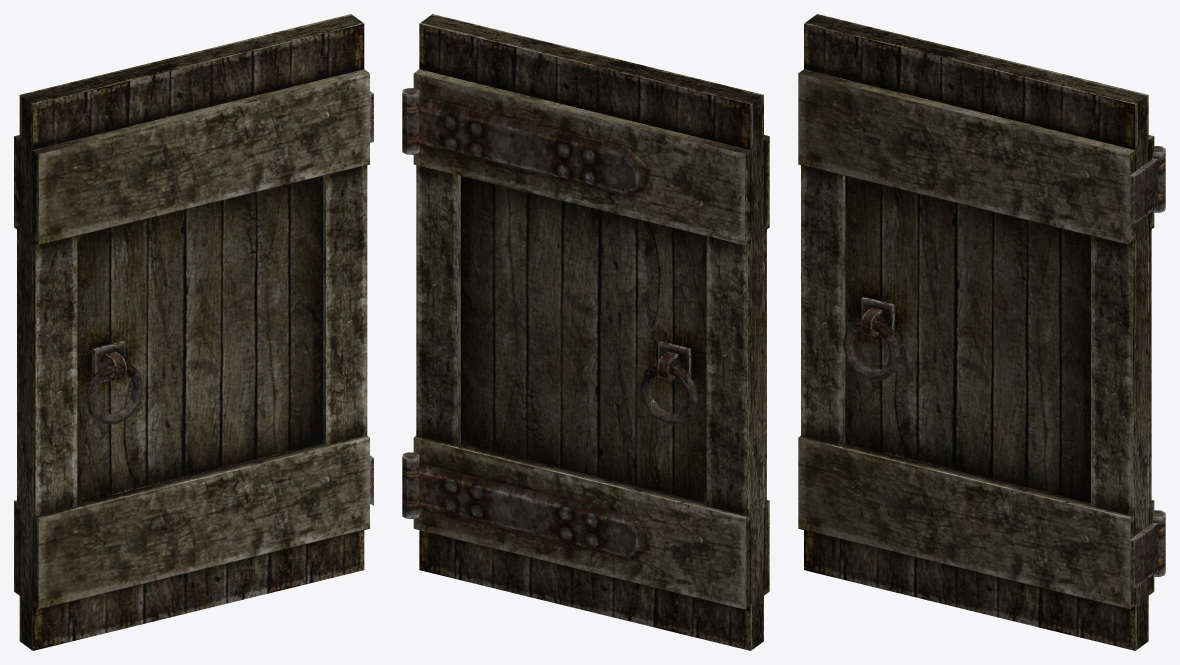
File: cellar_wood01.dae
3 views of the same model, side by side, from view 1: azimuth 30°, elevation 25°; view 2: azimuth 150°, elevation 25°; view 3: azimuth 330°, elevation 25° (orthographic).
Parts seen in each view (by area): view 1: Scene_Root; view 2: Scene_Root; view 3: Scene_Root, polySurface8.
Part boxes in pixels (box(x1,y1,x2,y2)): Scene_Root: box(14, 14, 369, 650); Scene_Root: box(402, 14, 769, 650); Scene_Root: box(798, 14, 1165, 650); polySurface8: box(1130, 158, 1157, 588).
Bounding box in the file's own units: 1.79 × 0.3653 × 2.75.
